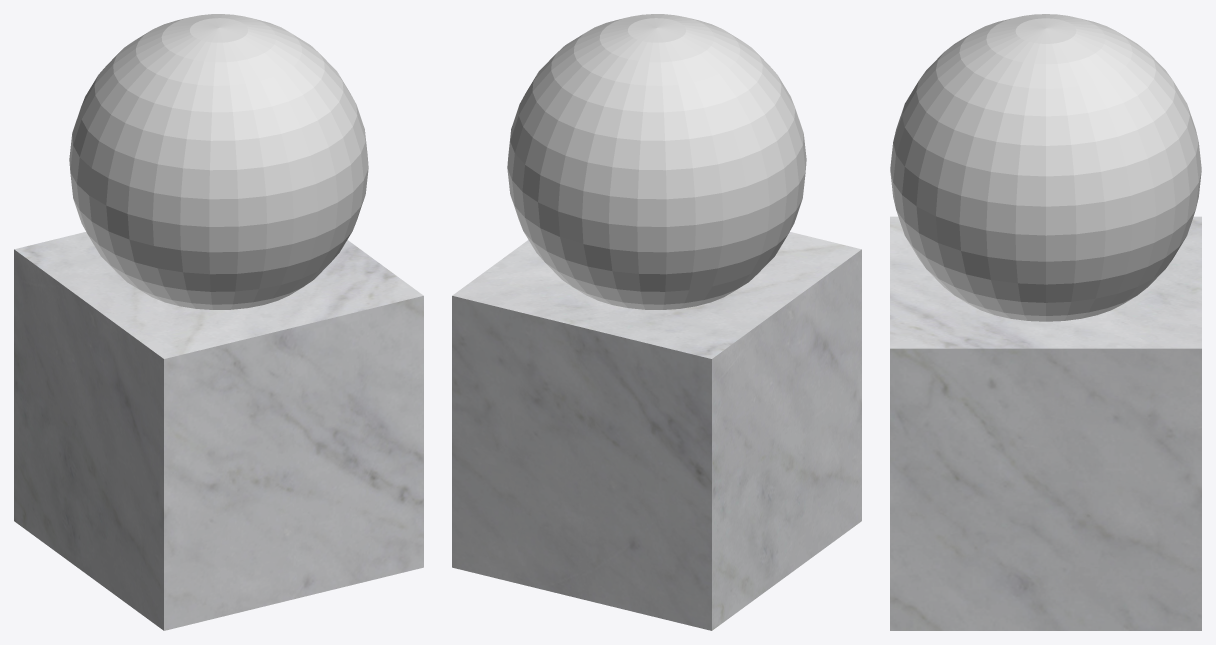
The model's file is light-statue.fbx.
3 views of the same model, side by side, from view 1: azimuth 30°, elevation 25°; view 2: azimuth 150°, elevation 25°; view 3: azimuth 270°, elevation 25° (orthographic). The views are drawn at different scales.
Visible parts, largest first — view 1: Cube, Sphere; view 2: Cube, Sphere; view 3: Cube, Sphere.
Part boxes in pixels (bbox=[...]): Cube: bbox=[14, 232, 423, 630]; Sphere: bbox=[69, 14, 368, 309]; Cube: bbox=[452, 232, 861, 630]; Sphere: bbox=[507, 14, 806, 309]; Cube: bbox=[890, 216, 1201, 630]; Sphere: bbox=[890, 14, 1201, 321].
Bounding box in the file's own units: 200 × 380 × 200.
